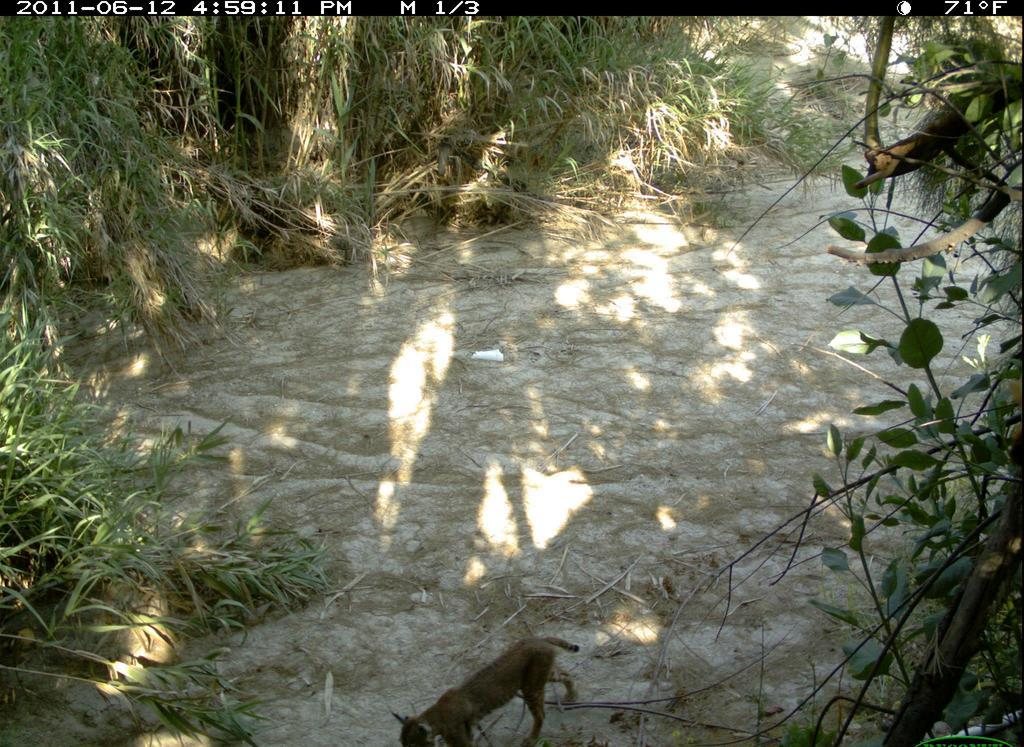bobcat: (390, 614, 594, 745)
